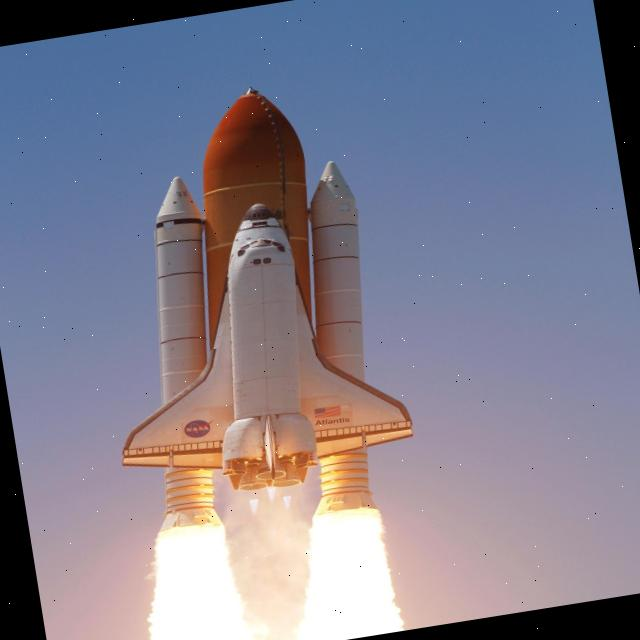rocket: (94, 196, 424, 494)
